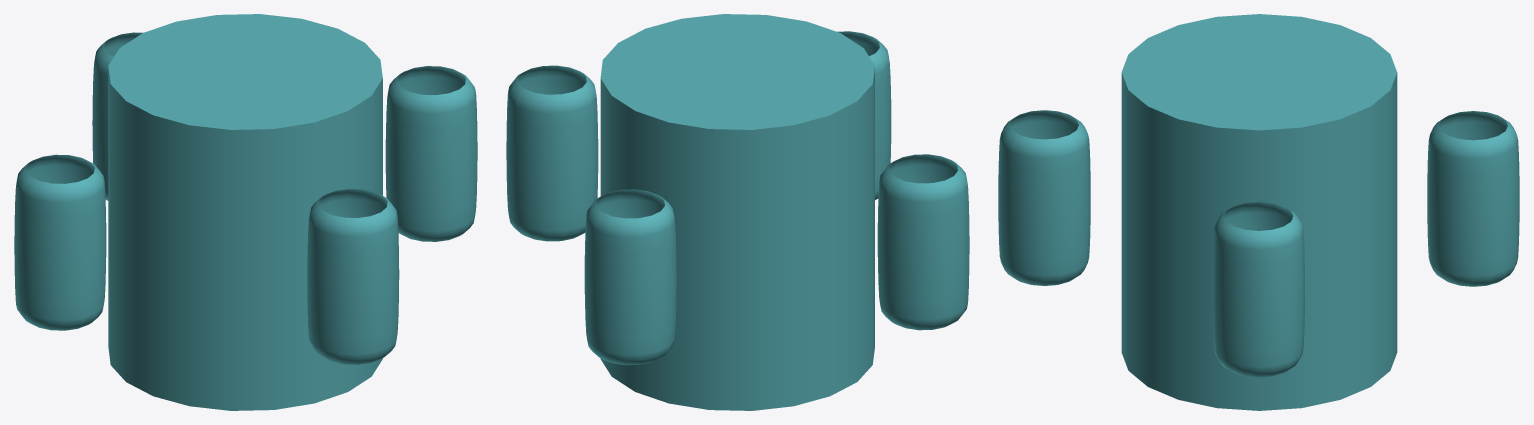
The model's file is engine_glass_reversed.fbx.
3 views of the same model, side by side, from view 1: azimuth 30°, elevation 25°; view 2: azimuth 150°, elevation 25°; view 3: azimuth 270°, elevation 25° (orthographic).
Visible parts, largest first — view 1: engine; view 2: engine; view 3: engine.
Boxes of the visible parts, bbox=[...] form: engine: bbox=[14, 14, 477, 410]; engine: bbox=[506, 14, 969, 410]; engine: bbox=[998, 14, 1519, 410].
Size of the model in its own units: 341 by 203 by 342.
